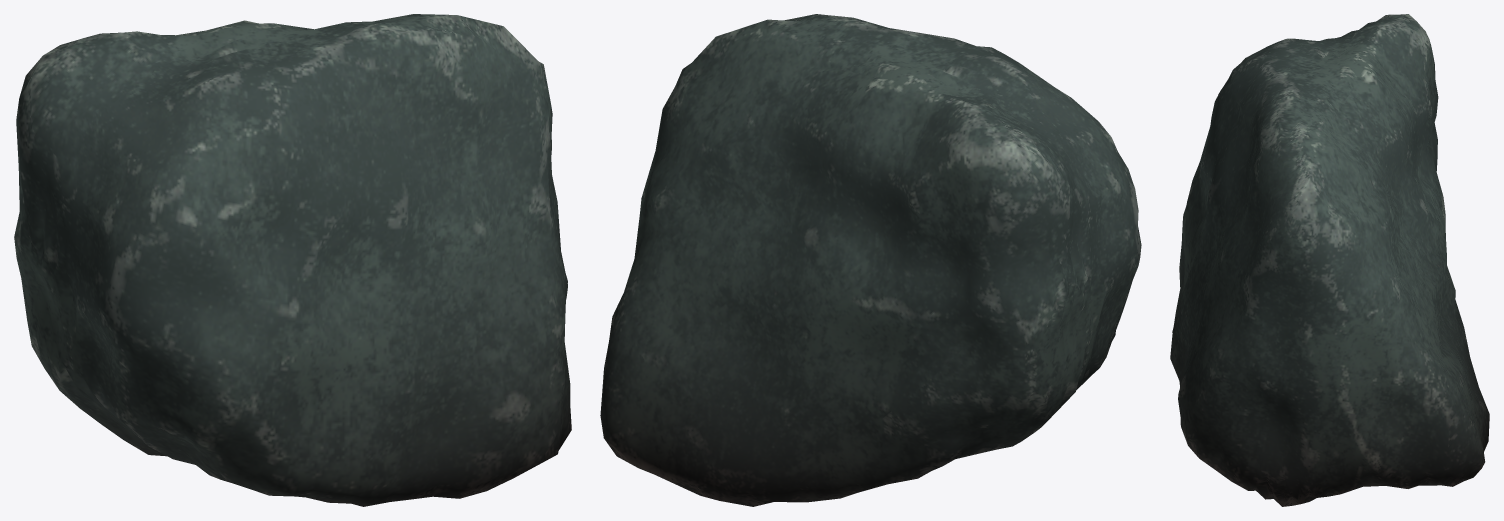
File: Rock04.fbx
The picture shows the model from 3 angles, left to right: view 1: azimuth 30°, elevation 25°; view 2: azimuth 150°, elevation 25°; view 3: azimuth 270°, elevation 25°; orthographic projection. The views are drawn at different scales.
Visible parts, largest first — view 1: rock.004_lp; view 2: rock.004_lp; view 3: rock.004_lp.
Part boxes in pixels (bbox=[...]): rock.004_lp: bbox=[14, 14, 571, 506]; rock.004_lp: bbox=[600, 14, 1141, 506]; rock.004_lp: bbox=[1170, 14, 1489, 506].
Bounding box in the file's own units: 361 × 326 × 263.
